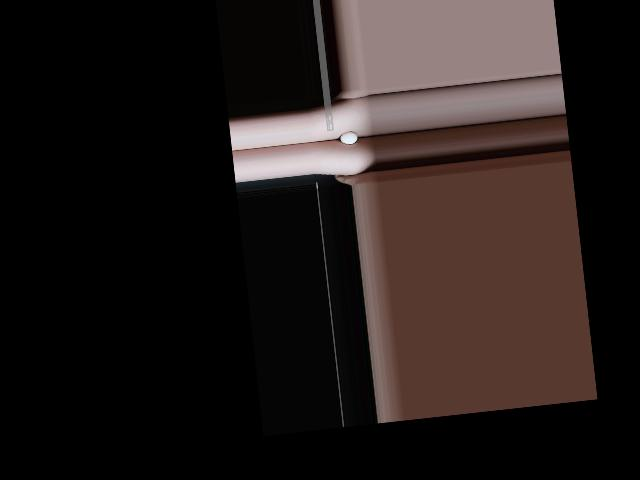egg: (339, 130, 357, 145)
